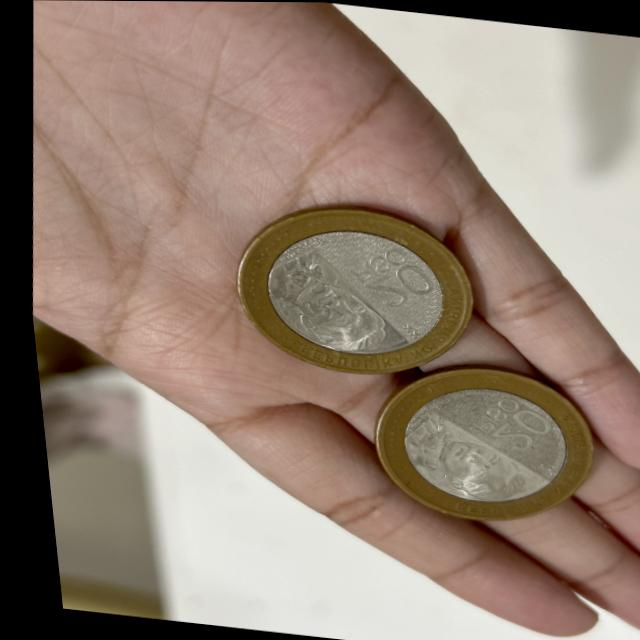20_New_Front: (329, 222, 442, 314), (452, 380, 561, 457)
